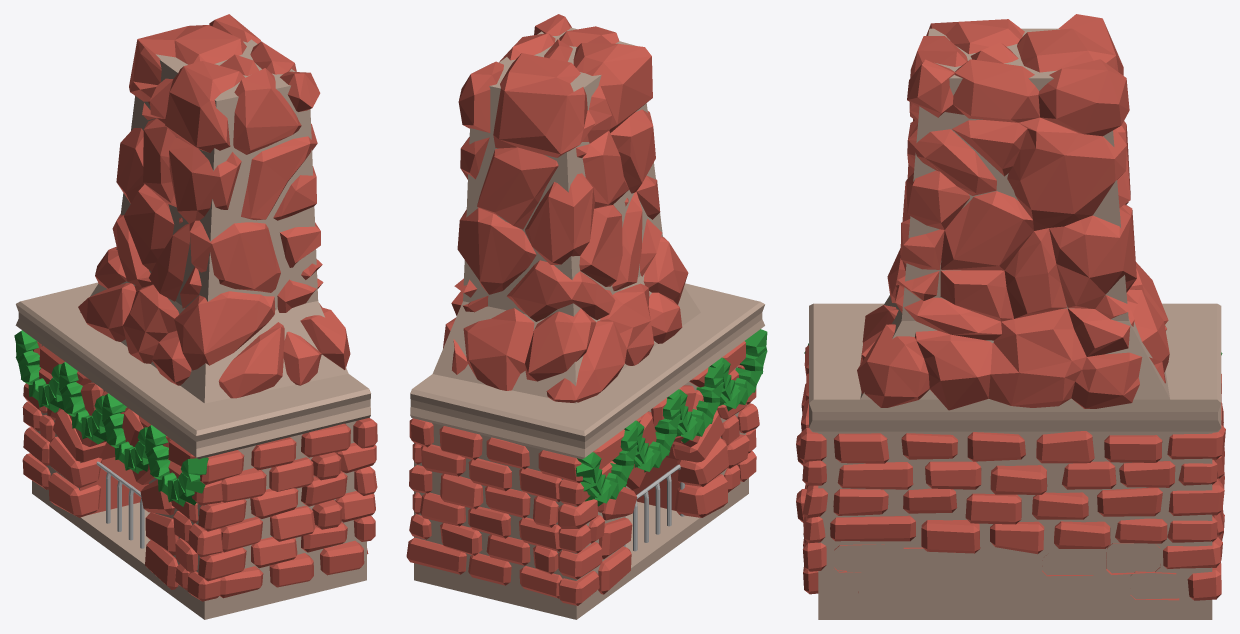
Rendered from firePlace1.glb.
The picture shows the model from 3 angles, left to right: view 1: azimuth 30°, elevation 25°; view 2: azimuth 150°, elevation 25°; view 3: azimuth 270°, elevation 25°; orthographic projection. The views are drawn at different scales.
Parts seen in each view (by area): view 1: 벽난로본.001; view 2: 벽난로본.001; view 3: 벽난로본.001.
Boxes of the visible parts, x1=… form: 벽난로본.001: x1=14, y1=14, x2=377, y2=619; 벽난로본.001: x1=406, y1=14, x2=767, y2=619; 벽난로본.001: x1=796, y1=14, x2=1225, y2=619.
Bounding box in the file's own units: 1.32 × 3.07 × 2.18.
